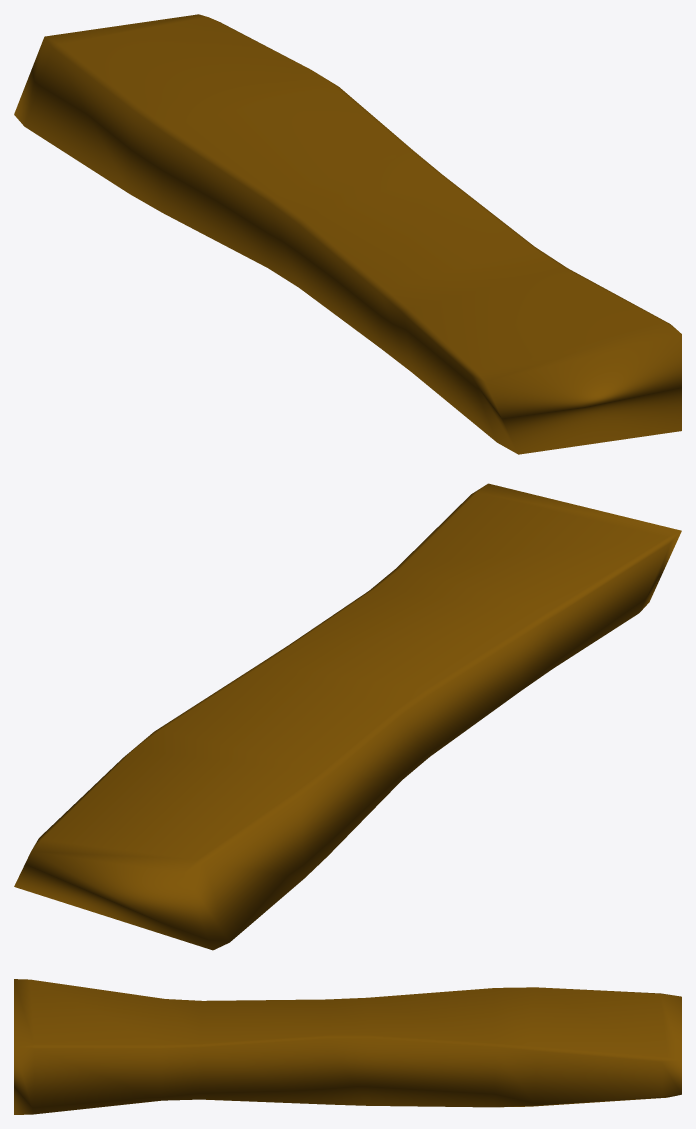
The model's file is odun.fbx.
3 renders of one model, top to bottom at view 1: azimuth 30°, elevation 25°; view 2: azimuth 150°, elevation 25°; view 3: azimuth 270°, elevation 25°, orthographic. The views are drawn at different scales.
Parts seen in each view (by area): view 1: Cube; view 2: Cube; view 3: Cube.
Part boxes in pixels (x1=…): Cube: x1=14, y1=14, x2=681, y2=454; Cube: x1=14, y1=483, x2=681, y2=950; Cube: x1=14, y1=979, x2=681, y2=1114.
Size of the model in its own units: 50.83 by 24.02 by 200.
